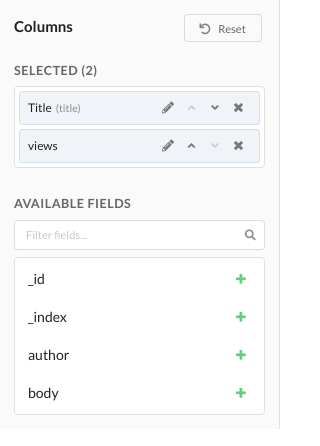
Test: ColumnsSidebar › reports when a filter matches nothing
This screenshot has width=320, height=446.
In the field labelled "Filter fields": point(140, 235) [14,220,265,250], type "zzz"
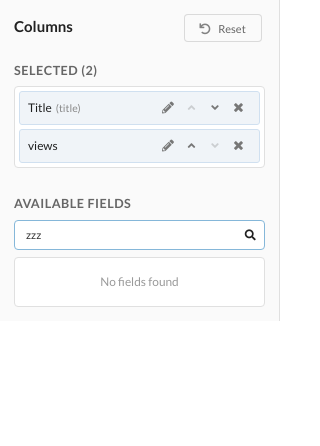
Expected: the text "No fields found" is shown, [100,274,179,289]
